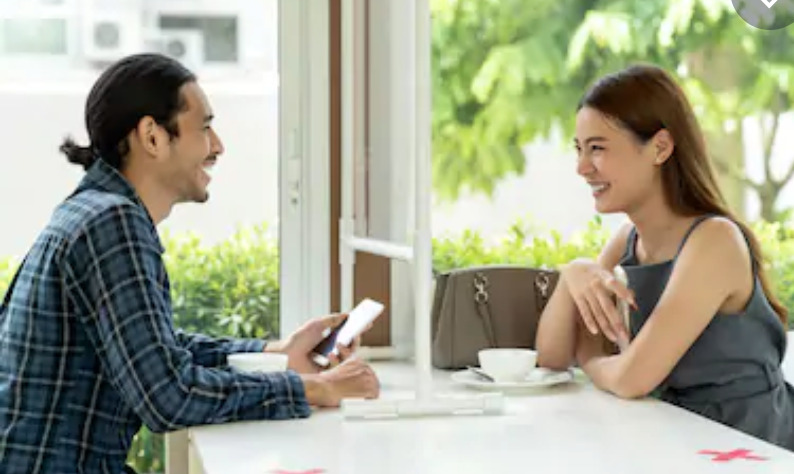Caution: (29, 51, 782, 442)
